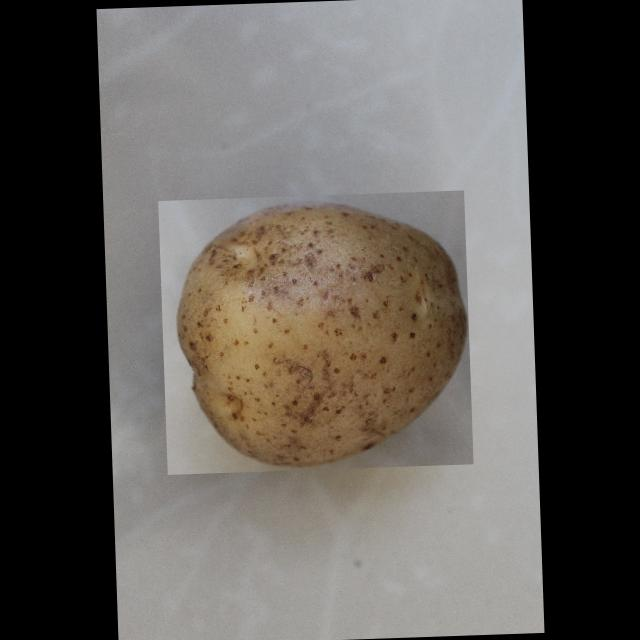Diseased-fungal potato: (158, 188, 473, 474)
